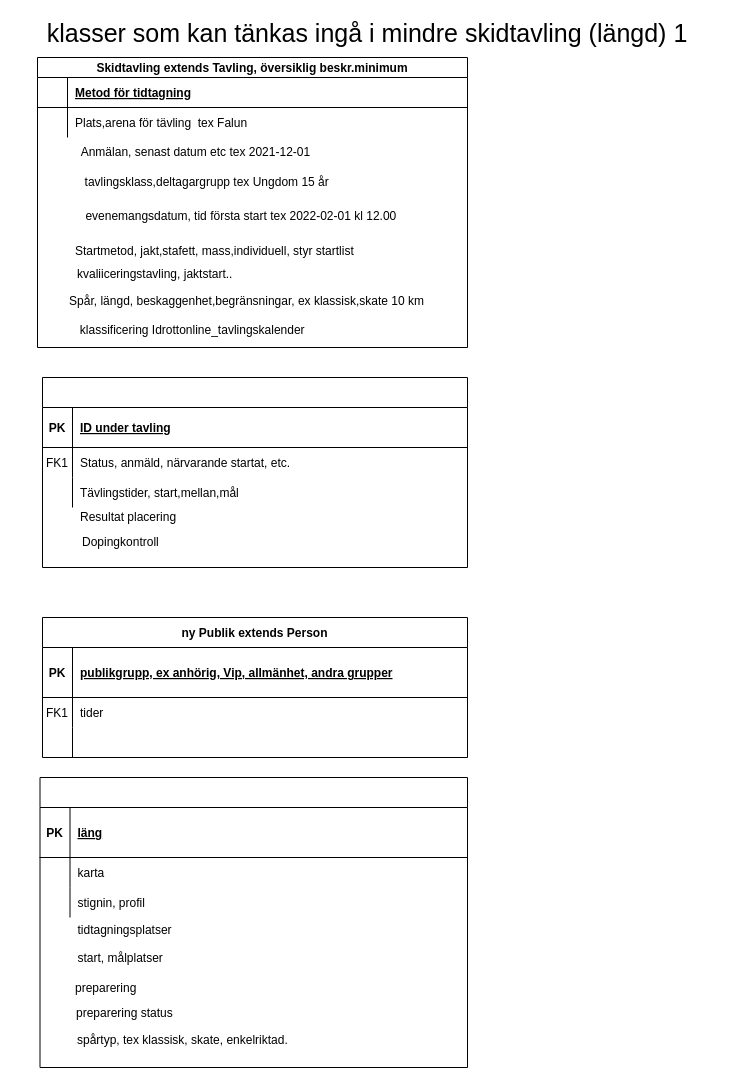
Some shapes in this 734 by 1085 pixel diagram are drawn without their labels. Each missing label, with the box of its shape:
Deltagare extends Person: (42, 376, 468, 568)
Skidspar: (39, 776, 468, 1068)
